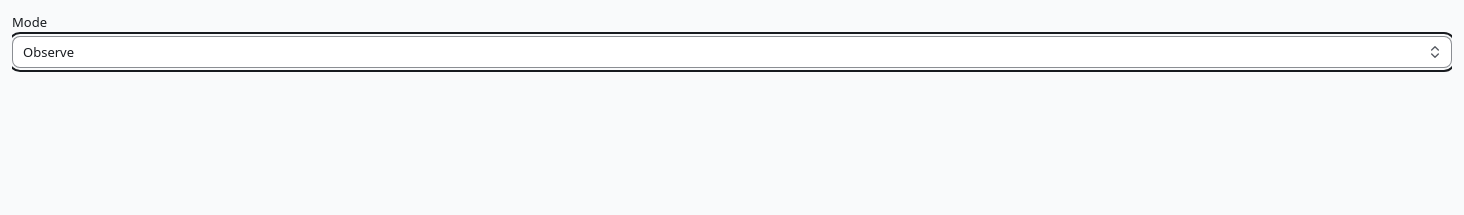
Select › opens from the keyboard, moves with arrows and picks with Enter
Expected: the dropdown named "Mode" reads "Observe", [12, 36, 1452, 68]
Press Arrowdown
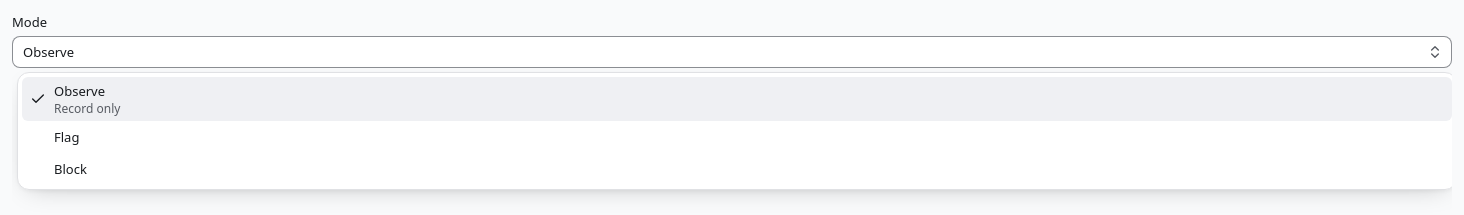
Now the list is shown, box [22, 77, 1452, 185]
Click the option "Block".
click(70, 169)  # box [54, 160, 87, 178]
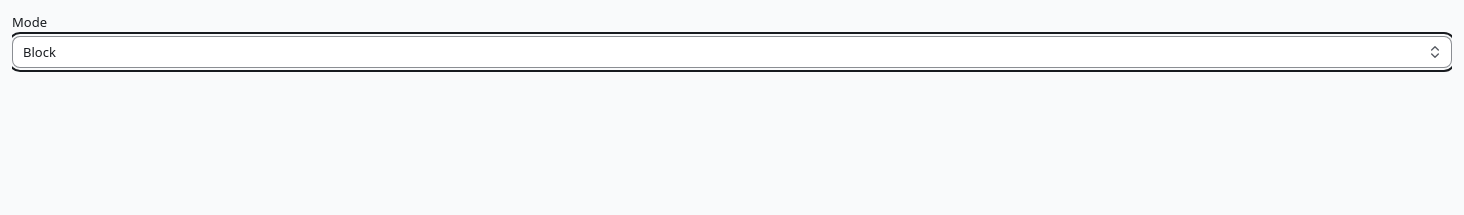
Now the dropdown named "Mode" reads "Block", box [12, 36, 1452, 68]
